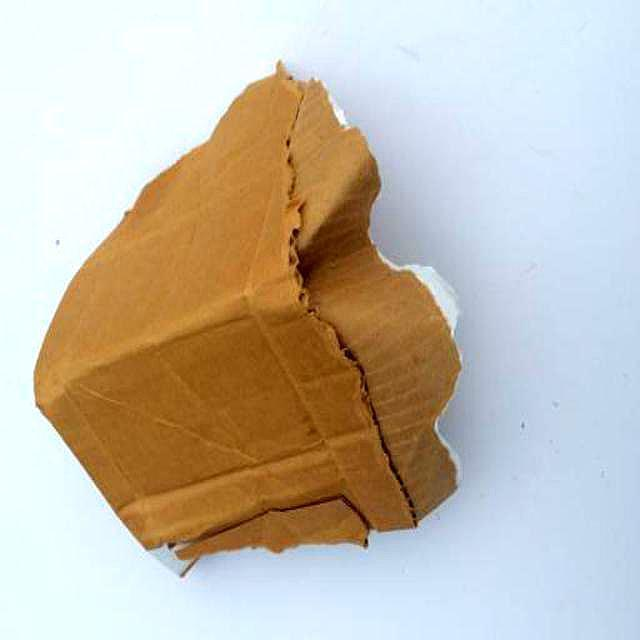Biodegradable: (31, 65, 463, 583)
